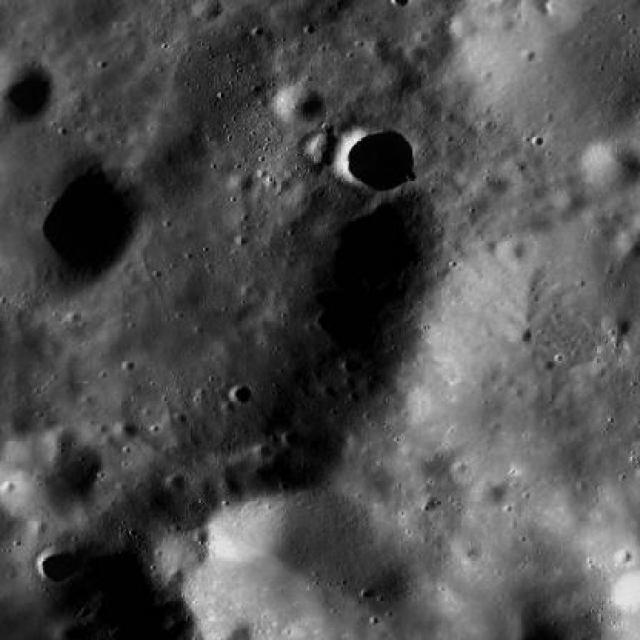crater: (0, 132, 138, 301), (166, 32, 274, 122), (0, 428, 100, 524), (335, 124, 417, 192), (0, 49, 52, 125), (143, 109, 206, 163), (581, 139, 640, 191), (154, 530, 211, 579), (339, 458, 393, 504), (128, 140, 182, 186), (276, 83, 326, 126), (377, 60, 425, 100), (37, 544, 80, 581), (306, 131, 346, 164), (472, 476, 508, 507), (477, 168, 511, 198), (188, 478, 220, 504), (556, 188, 587, 214), (496, 237, 526, 263), (46, 424, 74, 450), (215, 474, 242, 498), (603, 312, 631, 334), (452, 13, 478, 36), (114, 420, 140, 442), (454, 539, 480, 561), (584, 206, 610, 227), (4, 416, 28, 438), (193, 0, 219, 18), (230, 171, 253, 191), (230, 384, 252, 402), (509, 326, 531, 344), (366, 35, 388, 53), (477, 238, 497, 255), (406, 44, 424, 60), (43, 337, 62, 352), (0, 1, 1, 2)
